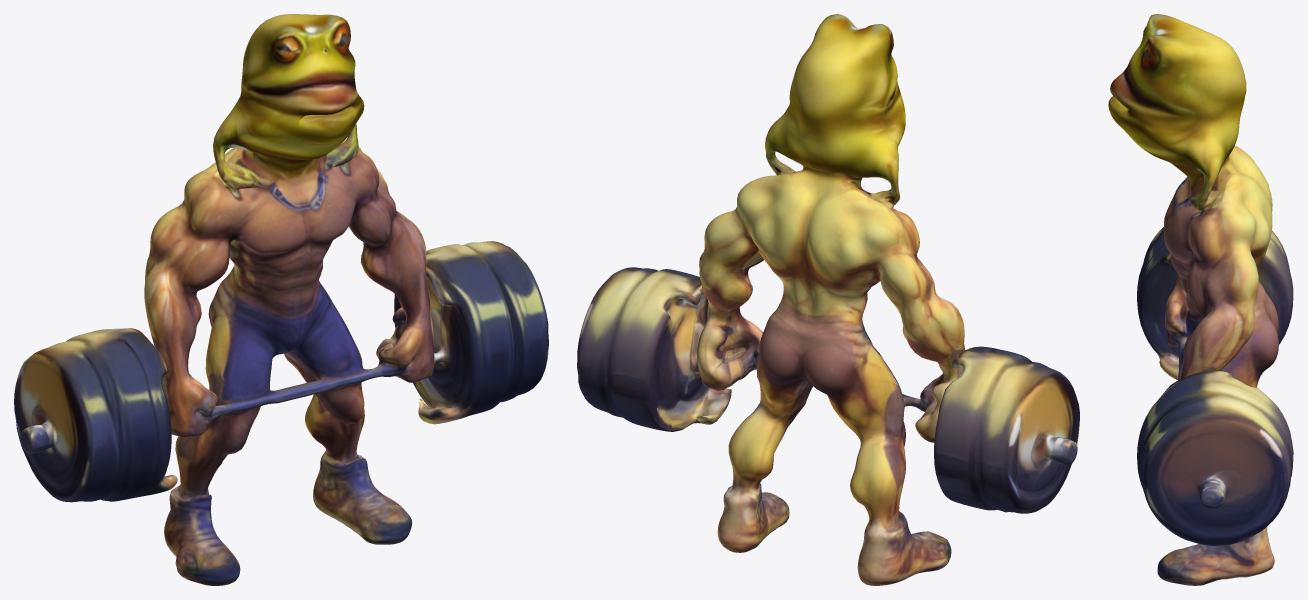
Rendered from GradientScene.glb.
3 renders of one model, left to right at view 1: azimuth 30°, elevation 25°; view 2: azimuth 150°, elevation 25°; view 3: azimuth 270°, elevation 25°, orthographic. The views are drawn at different scales.
Bounding box in the file's own units: 1.98 × 2 × 0.6533.
1 material, 1 textured.
